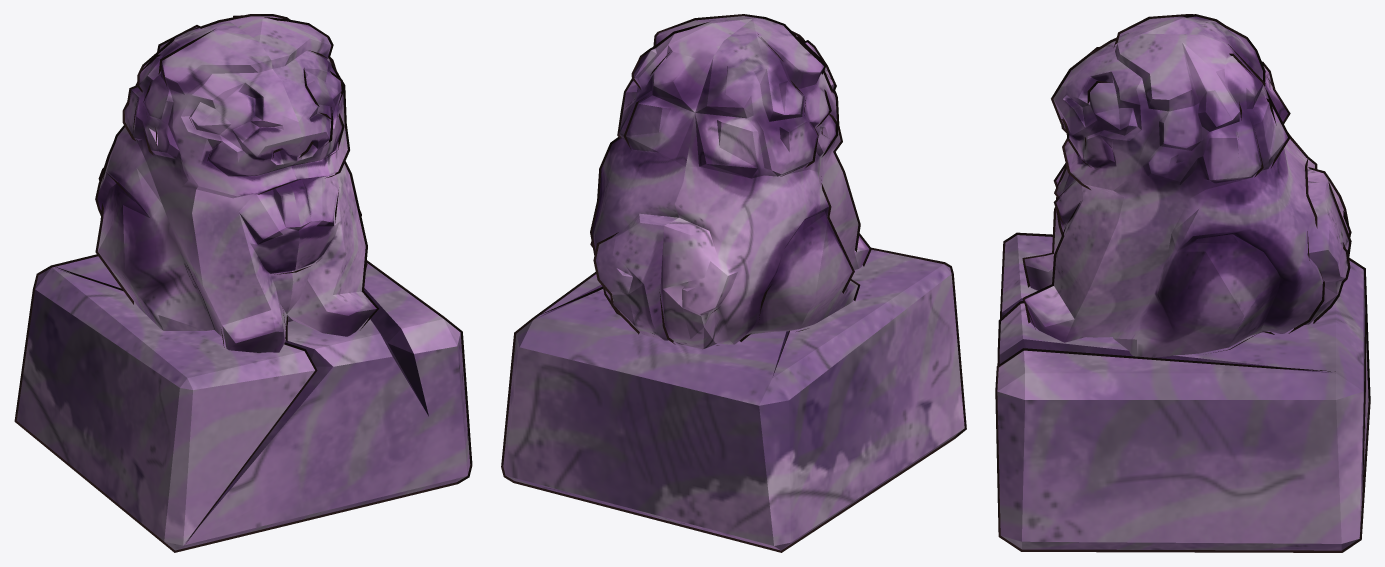
Rendered from mesh_ruins_02.fbx.
The picture shows the model from 3 angles, left to right: view 1: azimuth 30°, elevation 25°; view 2: azimuth 150°, elevation 25°; view 3: azimuth 270°, elevation 25°; orthographic projection. The views are drawn at different scales.
Parts seen in each view (by area): view 1: mesh_ruins_02; view 2: mesh_ruins_02; view 3: mesh_ruins_02.
Boxes of the visible parts, x1=… form: mesh_ruins_02: x1=14, y1=14, x2=472, y2=552; mesh_ruins_02: x1=501, y1=14, x2=966, y2=552; mesh_ruins_02: x1=995, y1=14, x2=1370, y2=552.
Size of the model in its own units: 193 by 259 by 194.
Materials: 2 (1 with a texture image).
